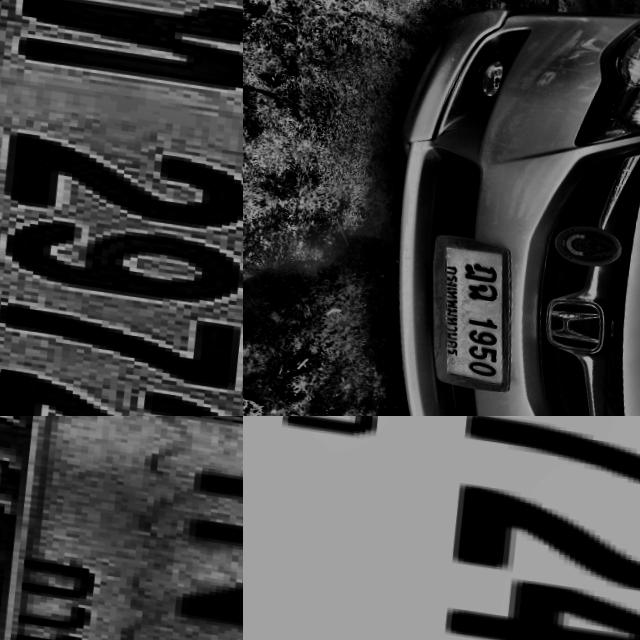license-plate: (0, 0, 243, 416), (243, 416, 640, 640), (0, 416, 243, 640), (408, 227, 526, 395)
